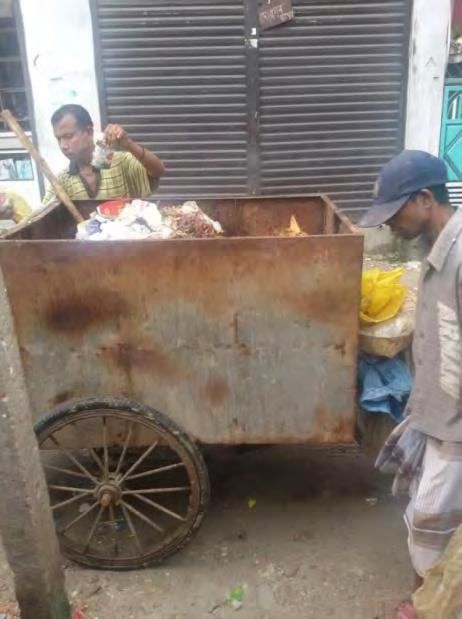garbagevan: (1, 190, 368, 571)
